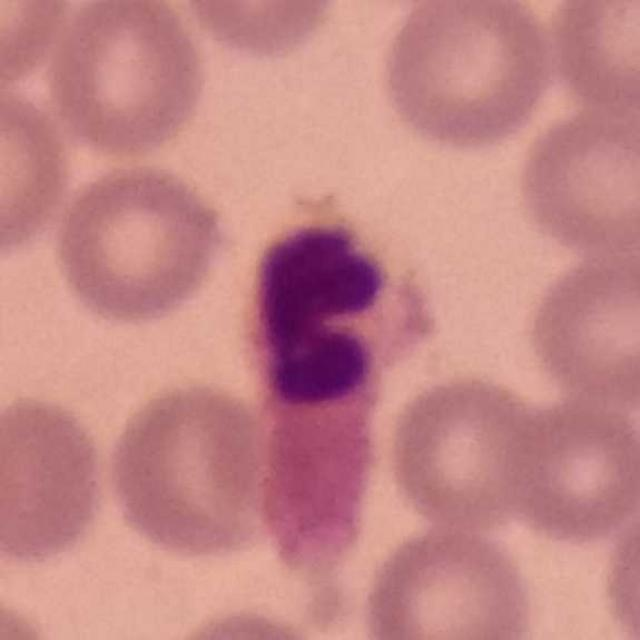Neutrophil: (245, 199, 450, 581)
RBC: (100, 374, 276, 564), (48, 156, 235, 329), (372, 0, 560, 156), (381, 367, 553, 532), (42, 0, 212, 163), (356, 518, 539, 640), (494, 395, 640, 547), (511, 96, 640, 262), (0, 390, 114, 568), (521, 243, 640, 406), (0, 80, 73, 262), (545, 0, 639, 121), (175, 0, 346, 63), (147, 602, 338, 640), (0, 0, 75, 90), (596, 492, 640, 640), (0, 582, 63, 640)
